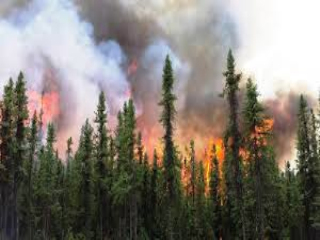fire: (134, 120, 243, 195), (23, 88, 67, 135)
smoke: (10, 17, 215, 113), (183, 8, 307, 110)
